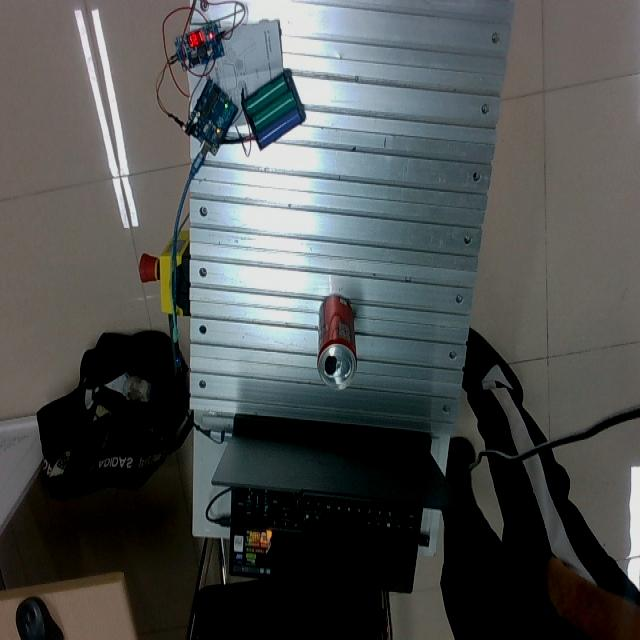coca: (316, 294, 357, 390)
